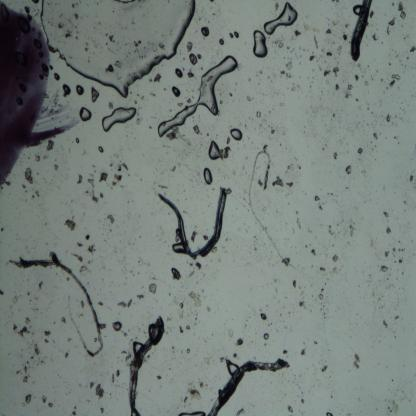Air bubble: (43, 0, 198, 95), (157, 55, 238, 137), (263, 1, 298, 35), (100, 106, 136, 132), (252, 29, 269, 58), (208, 138, 222, 160), (225, 358, 240, 373), (79, 108, 92, 124), (179, 409, 205, 416), (230, 128, 243, 142), (172, 243, 185, 255), (132, 342, 144, 353), (204, 168, 212, 184), (171, 86, 181, 98), (189, 53, 197, 66), (201, 26, 211, 36), (63, 84, 71, 96), (113, 322, 122, 332), (352, 4, 360, 15), (76, 84, 84, 95), (176, 67, 183, 78), (53, 73, 61, 81), (218, 38, 225, 45), (98, 146, 104, 153), (234, 31, 239, 39), (76, 137, 79, 143)
Background material: (168, 125, 189, 148), (87, 171, 99, 203), (187, 291, 203, 309), (169, 262, 183, 282), (187, 382, 201, 402), (118, 296, 134, 310), (105, 60, 122, 73), (251, 234, 262, 254), (397, 1, 408, 21), (25, 164, 36, 184), (90, 86, 102, 104), (282, 254, 297, 268), (386, 15, 396, 36), (351, 350, 361, 370), (188, 259, 202, 273), (18, 325, 31, 339), (147, 280, 158, 296), (136, 104, 144, 125), (273, 174, 284, 189), (150, 41, 165, 52), (65, 216, 75, 232), (103, 33, 116, 45), (272, 35, 283, 49), (222, 146, 232, 160), (96, 383, 104, 400), (33, 340, 41, 357), (122, 348, 131, 362), (105, 214, 116, 225), (22, 5, 32, 17), (98, 172, 108, 184), (345, 162, 353, 176), (47, 138, 55, 152), (192, 124, 200, 138), (202, 356, 212, 367), (302, 21, 312, 32), (72, 250, 83, 260), (134, 39, 143, 51), (226, 326, 235, 338), (369, 287, 378, 299), (189, 230, 198, 242), (42, 152, 52, 162), (112, 172, 122, 182), (330, 253, 340, 263), (298, 299, 307, 310), (294, 216, 301, 230), (328, 224, 336, 236), (120, 0, 138, 5), (86, 244, 95, 254), (332, 66, 340, 77), (286, 60, 294, 71), (392, 399, 398, 413), (188, 67, 195, 79), (371, 131, 380, 140), (43, 329, 52, 338), (300, 346, 308, 356), (63, 30, 73, 38), (154, 73, 162, 83), (236, 408, 246, 416), (24, 316, 32, 326), (79, 264, 89, 272), (319, 287, 325, 300), (356, 61, 363, 72), (372, 31, 379, 42), (391, 73, 402, 80), (177, 308, 184, 319), (294, 28, 302, 37), (380, 266, 389, 274), (330, 266, 338, 275), (100, 321, 108, 330), (286, 163, 292, 175), (122, 163, 130, 172), (34, 189, 42, 198), (186, 40, 192, 52), (323, 70, 332, 78), (311, 24, 320, 32), (199, 380, 208, 388), (24, 394, 31, 404), (314, 35, 319, 49), (242, 227, 250, 235), (342, 33, 350, 41), (344, 90, 352, 98), (293, 83, 301, 91), (346, 82, 354, 90), (282, 349, 290, 357), (262, 142, 269, 151), (236, 338, 243, 347), (286, 181, 295, 188), (260, 312, 267, 321), (111, 372, 116, 384), (76, 175, 82, 185), (326, 190, 334, 197), (310, 249, 318, 256), (212, 246, 220, 253), (389, 80, 396, 88), (286, 405, 293, 413), (149, 89, 156, 97), (72, 13, 80, 20), (387, 283, 395, 290), (63, 351, 70, 359), (12, 295, 18, 304), (78, 240, 84, 249), (256, 110, 262, 119), (172, 296, 178, 305), (274, 2, 280, 11), (292, 280, 298, 289), (159, 182, 168, 188), (270, 124, 275, 134), (258, 178, 263, 188), (42, 394, 47, 404), (324, 411, 334, 416), (384, 251, 391, 258), (383, 211, 390, 218), (320, 366, 327, 373), (144, 355, 150, 363), (313, 194, 321, 200), (178, 326, 184, 334), (78, 300, 84, 308), (278, 101, 286, 107), (111, 179, 117, 187), (370, 10, 376, 18), (332, 152, 338, 160), (22, 376, 28, 384), (34, 155, 40, 163), (188, 270, 194, 278), (237, 62, 243, 70), (88, 381, 94, 389), (185, 137, 191, 145), (107, 102, 113, 110), (318, 202, 324, 210), (21, 184, 27, 192), (166, 326, 172, 334), (337, 46, 342, 55), (40, 280, 44, 291), (115, 368, 119, 379), (263, 333, 269, 340), (345, 22, 352, 28), (137, 294, 143, 301), (327, 51, 334, 57), (306, 226, 312, 233), (376, 297, 382, 304), (5, 180, 11, 187), (386, 115, 392, 122), (309, 54, 315, 61), (166, 315, 172, 322), (156, 374, 162, 381), (202, 232, 208, 239), (246, 95, 253, 101), (171, 346, 177, 353), (319, 267, 326, 273), (107, 161, 113, 168), (184, 395, 188, 405), (350, 226, 354, 236), (100, 406, 104, 416), (61, 316, 66, 324), (322, 312, 327, 320), (410, 45, 415, 53), (325, 76, 330, 84), (176, 102, 184, 107), (172, 164, 177, 172), (289, 34, 294, 42), (85, 43, 89, 52), (280, 70, 286, 76), (320, 305, 326, 311), (331, 20, 337, 26), (261, 206, 267, 212), (318, 65, 324, 71), (86, 258, 92, 264), (186, 98, 192, 104), (78, 312, 84, 318), (84, 234, 90, 240), (286, 72, 292, 78), (196, 53, 202, 59), (312, 340, 318, 346), (378, 76, 384, 82), (265, 74, 271, 80), (72, 410, 78, 416), (233, 351, 239, 357), (182, 209, 188, 215), (384, 320, 388, 329), (391, 121, 398, 126), (344, 186, 351, 191), (388, 406, 393, 413), (0, 288, 4, 296), (24, 366, 28, 374), (226, 136, 230, 144), (410, 175, 414, 183), (394, 51, 398, 59), (242, 164, 246, 172), (68, 54, 74, 59), (321, 46, 326, 52), (44, 338, 49, 344), (48, 402, 53, 408), (386, 228, 391, 234), (179, 303, 184, 309), (290, 48, 296, 53), (327, 28, 332, 34), (358, 147, 363, 153), (274, 208, 279, 214), (361, 168, 367, 173), (354, 74, 359, 80), (203, 338, 208, 344), (12, 323, 16, 330), (398, 248, 405, 252), (100, 192, 104, 199), (334, 84, 338, 91), (67, 337, 72, 342), (98, 301, 103, 306), (185, 325, 190, 330), (219, 358, 224, 363), (211, 12, 216, 17), (395, 315, 400, 320), (152, 275, 157, 280), (369, 23, 374, 28), (286, 192, 290, 198), (94, 335, 97, 343), (186, 348, 190, 354), (229, 92, 233, 98), (207, 306, 211, 312), (248, 76, 252, 82), (54, 165, 58, 171), (371, 76, 375, 82), (1, 228, 5, 234), (22, 402, 26, 408), (118, 164, 121, 172), (87, 55, 90, 63), (262, 90, 266, 96), (393, 134, 397, 140), (364, 122, 370, 126), (16, 369, 20, 375), (296, 383, 300, 389), (141, 94, 145, 100), (324, 142, 328, 148), (246, 134, 250, 140), (124, 329, 127, 337), (209, 0, 216, 3), (30, 355, 34, 360), (298, 285, 302, 290), (75, 30, 79, 35), (292, 228, 296, 233), (75, 36, 79, 41), (200, 66, 204, 71), (244, 124, 248, 129), (267, 262, 272, 266), (297, 166, 302, 170), (398, 259, 402, 264), (259, 69, 263, 74), (31, 194, 35, 199), (60, 24, 64, 29), (331, 40, 335, 45), (168, 108, 172, 113), (27, 291, 31, 296), (364, 82, 369, 86), (202, 273, 206, 278), (149, 78, 153, 83), (91, 164, 96, 168), (40, 359, 44, 364), (85, 191, 89, 196), (218, 110, 221, 116), (220, 100, 223, 106), (153, 180, 156, 186), (180, 396, 183, 402), (67, 147, 70, 153), (382, 184, 385, 190), (389, 60, 392, 66), (301, 398, 304, 404), (319, 54, 323, 58), (332, 113, 336, 117), (310, 265, 314, 269), (342, 218, 346, 222), (282, 56, 286, 60), (206, 132, 210, 136), (309, 84, 313, 88), (243, 198, 247, 202), (168, 367, 172, 371), (165, 151, 169, 155), (392, 248, 396, 252), (398, 59, 402, 63), (120, 184, 124, 188), (133, 101, 137, 105), (272, 74, 276, 78), (201, 289, 205, 293), (370, 198, 374, 202), (274, 279, 278, 283), (404, 63, 408, 67), (310, 51, 314, 55), (114, 250, 118, 254), (363, 200, 367, 204), (66, 277, 70, 281), (222, 245, 226, 249), (403, 201, 407, 205), (298, 46, 302, 50), (401, 271, 405, 275), (154, 168, 158, 172), (303, 47, 306, 52), (26, 360, 29, 365), (218, 258, 221, 263), (139, 54, 142, 59), (374, 306, 377, 311), (275, 287, 278, 292), (82, 211, 85, 216), (299, 55, 304, 58), (372, 146, 375, 151), (296, 210, 299, 215), (72, 214, 75, 219), (392, 1, 395, 6), (97, 218, 100, 223), (356, 97, 359, 102), (299, 61, 302, 66), (312, 76, 314, 83), (288, 310, 290, 317), (243, 204, 246, 208), (388, 399, 391, 403), (368, 274, 372, 277), (141, 55, 144, 59), (194, 322, 197, 326), (305, 245, 308, 249), (280, 312, 283, 316), (74, 405, 77, 409), (335, 200, 338, 204), (266, 323, 270, 326), (332, 0, 336, 3), (381, 305, 384, 309), (373, 300, 376, 304), (244, 144, 247, 148), (307, 48, 310, 52), (105, 42, 108, 46), (144, 54, 147, 58), (396, 275, 398, 281), (386, 86, 389, 90), (380, 114, 384, 117), (406, 57, 410, 60), (324, 282, 327, 286), (287, 46, 290, 50), (195, 317, 198, 321), (200, 132, 203, 136), (216, 133, 219, 137), (396, 268, 399, 272), (331, 394, 334, 398), (376, 69, 379, 73), (397, 86, 400, 90), (336, 0, 340, 3), (148, 126, 152, 129), (25, 246, 28, 250), (245, 156, 249, 159), (196, 281, 199, 285), (35, 296, 38, 300), (109, 228, 112, 232), (212, 188, 215, 192), (394, 307, 397, 311), (163, 88, 167, 91), (240, 121, 242, 126), (279, 141, 281, 146), (178, 198, 180, 203), (148, 261, 150, 266), (142, 284, 144, 289), (224, 175, 226, 180), (374, 144, 377, 147), (192, 116, 195, 119), (45, 242, 48, 245), (413, 374, 416, 377), (259, 125, 262, 128), (362, 75, 365, 78), (130, 270, 133, 273), (401, 390, 404, 393), (403, 37, 406, 40), (400, 117, 403, 120), (287, 202, 290, 205), (45, 223, 48, 226), (375, 201, 378, 204), (299, 374, 302, 377), (210, 259, 213, 262), (139, 235, 142, 238), (388, 54, 391, 57), (200, 143, 203, 146), (386, 278, 389, 281), (93, 26, 96, 29), (178, 162, 180, 166), (169, 293, 171, 297), (393, 330, 395, 334), (54, 320, 56, 324), (401, 398, 403, 402), (130, 91, 132, 95), (413, 252, 415, 256), (243, 222, 245, 226), (310, 295, 314, 297), (127, 200, 129, 204), (385, 136, 387, 140), (392, 378, 394, 382), (168, 212, 170, 216), (141, 258, 143, 262), (29, 298, 31, 302), (139, 214, 141, 218), (394, 116, 398, 118), (140, 263, 142, 267), (140, 178, 142, 182), (37, 172, 39, 176), (270, 322, 272, 326), (316, 59, 318, 63), (35, 308, 39, 310), (181, 350, 183, 354), (232, 153, 234, 157), (199, 18, 201, 22), (401, 317, 403, 321), (398, 241, 402, 243), (302, 297, 306, 299), (166, 146, 170, 148), (402, 108, 404, 112), (94, 169, 96, 173), (104, 239, 106, 243), (120, 239, 122, 243), (328, 129, 330, 132), (210, 298, 212, 301), (151, 116, 154, 118), (194, 225, 196, 228), (394, 260, 396, 263), (379, 132, 381, 135), (384, 398, 386, 401), (199, 173, 201, 176), (411, 240, 413, 243), (394, 191, 396, 194), (398, 287, 400, 290), (190, 311, 192, 314), (136, 94, 139, 96), (378, 306, 380, 309), (336, 195, 339, 197), (338, 231, 340, 234), (162, 145, 165, 147), (401, 24, 403, 27), (408, 400, 411, 402), (385, 366, 388, 368), (414, 186, 416, 189), (371, 112, 374, 114), (124, 256, 126, 259), (403, 364, 405, 367), (312, 69, 314, 72), (322, 148, 325, 150), (127, 174, 130, 176), (381, 42, 384, 44), (393, 255, 396, 257), (398, 298, 400, 301), (367, 108, 370, 110), (394, 336, 396, 339), (155, 116, 157, 119), (132, 274, 134, 277), (138, 271, 140, 274), (411, 94, 413, 97), (208, 205, 211, 207), (99, 22, 101, 25), (390, 315, 392, 318), (186, 302, 188, 305), (138, 260, 140, 263), (183, 189, 185, 192), (387, 220, 390, 222), (226, 238, 228, 241), (108, 238, 110, 240), (84, 227, 86, 229), (337, 224, 339, 226), (209, 202, 211, 204), (376, 408, 378, 410), (251, 142, 253, 144), (100, 221, 102, 223), (200, 278, 202, 280), (376, 190, 378, 192), (396, 389, 398, 391), (397, 302, 399, 304), (398, 142, 400, 144), (244, 43, 246, 45), (255, 222, 257, 224), (310, 310, 312, 312), (102, 233, 104, 235), (401, 102, 403, 104), (33, 248, 35, 250), (108, 48, 110, 50), (401, 64, 403, 66), (133, 22, 135, 24), (266, 305, 268, 307), (370, 141, 372, 143), (28, 251, 30, 253), (212, 334, 214, 336), (374, 159, 376, 161), (399, 107, 401, 109), (392, 253, 394, 255), (188, 314, 190, 316), (404, 210, 406, 212), (196, 314, 198, 316), (226, 250, 227, 253), (390, 274, 391, 277), (186, 198, 187, 201), (248, 209, 249, 212), (232, 214, 233, 217), (236, 207, 237, 210), (285, 297, 288, 298), (396, 217, 398, 218), (382, 296, 383, 298), (414, 179, 416, 180), (354, 223, 356, 224), (246, 172, 247, 174), (287, 239, 289, 240), (172, 358, 173, 360), (175, 357, 176, 359), (209, 339, 210, 340), (128, 56, 128, 58)
Cellulose filter fibre: (6, 256, 106, 358), (209, 354, 290, 416), (247, 148, 284, 259), (127, 313, 166, 416), (351, 0, 374, 61)
Cotton: (151, 187, 225, 261)
Diatom: (0, 0, 72, 197)
